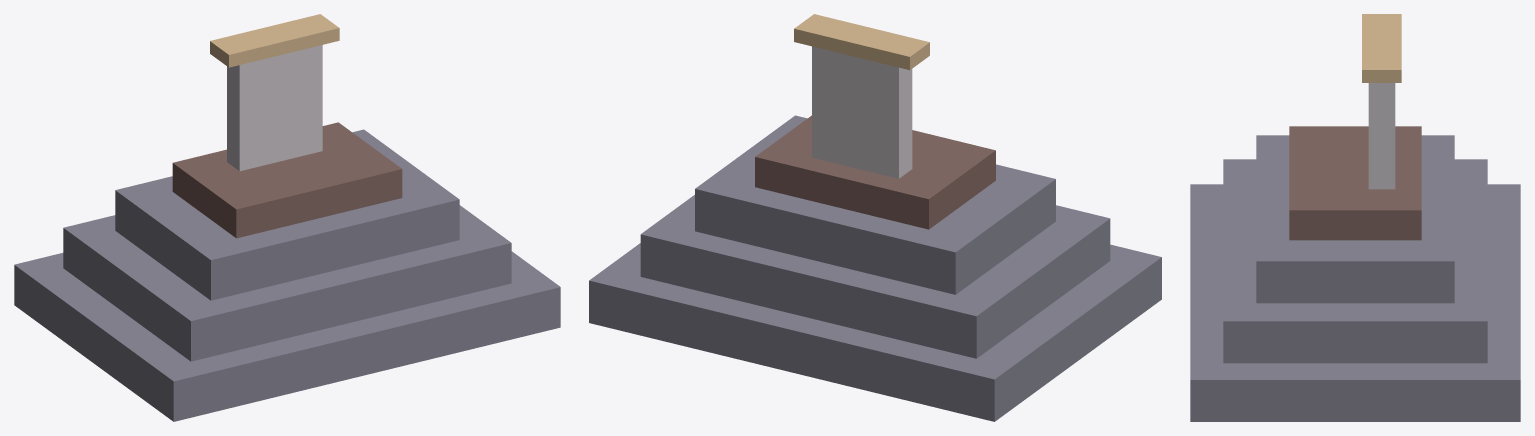
File: dojo_ritual_altar.glb
3 renders of one model, left to right at view 1: azimuth 30°, elevation 25°; view 2: azimuth 150°, elevation 25°; view 3: azimuth 270°, elevation 25°, orthographic. The views are drawn at different scales.
Visible parts, largest first — view 1: dojo_ritual_altar_00, dojo_ritual_altar_01, dojo_ritual_altar_02, dojo_ritual_altar_03, dojo_ritual_altar_04, dojo_ritual_altar_05; view 2: dojo_ritual_altar_00, dojo_ritual_altar_01, dojo_ritual_altar_02, dojo_ritual_altar_03, dojo_ritual_altar_04, dojo_ritual_altar_05; view 3: dojo_ritual_altar_00, dojo_ritual_altar_01, dojo_ritual_altar_02, dojo_ritual_altar_03, dojo_ritual_altar_04, dojo_ritual_altar_05.
Boxes of the visible parts, <box> form: dojo_ritual_altar_00: <box>14,251,560,421</box>; dojo_ritual_altar_01: <box>63,205,511,361</box>; dojo_ritual_altar_02: <box>115,129,459,300</box>; dojo_ritual_altar_03: <box>172,122,402,238</box>; dojo_ritual_altar_04: <box>227,45,322,171</box>; dojo_ritual_altar_05: <box>210,14,339,67</box>; dojo_ritual_altar_00: <box>589,243,1161,421</box>; dojo_ritual_altar_01: <box>640,195,1110,358</box>; dojo_ritual_altar_02: <box>695,115,1055,294</box>; dojo_ritual_altar_03: <box>755,115,995,229</box>; dojo_ritual_altar_04: <box>812,46,912,178</box>; dojo_ritual_altar_05: <box>794,14,929,70</box>; dojo_ritual_altar_00: <box>1190,184,1520,421</box>; dojo_ritual_altar_01: <box>1223,159,1487,363</box>; dojo_ritual_altar_02: <box>1256,135,1454,303</box>; dojo_ritual_altar_03: <box>1289,126,1421,240</box>; dojo_ritual_altar_04: <box>1368,83,1395,189</box>; dojo_ritual_altar_05: <box>1362,14,1401,82</box>.
Bounding box in the file's own units: 7 × 4.71 × 5.
